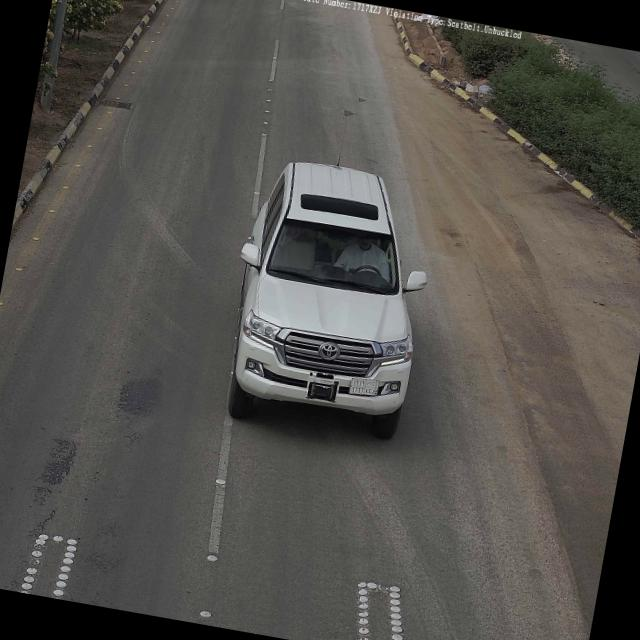person_without_seatbelt: (337, 230, 392, 284)
